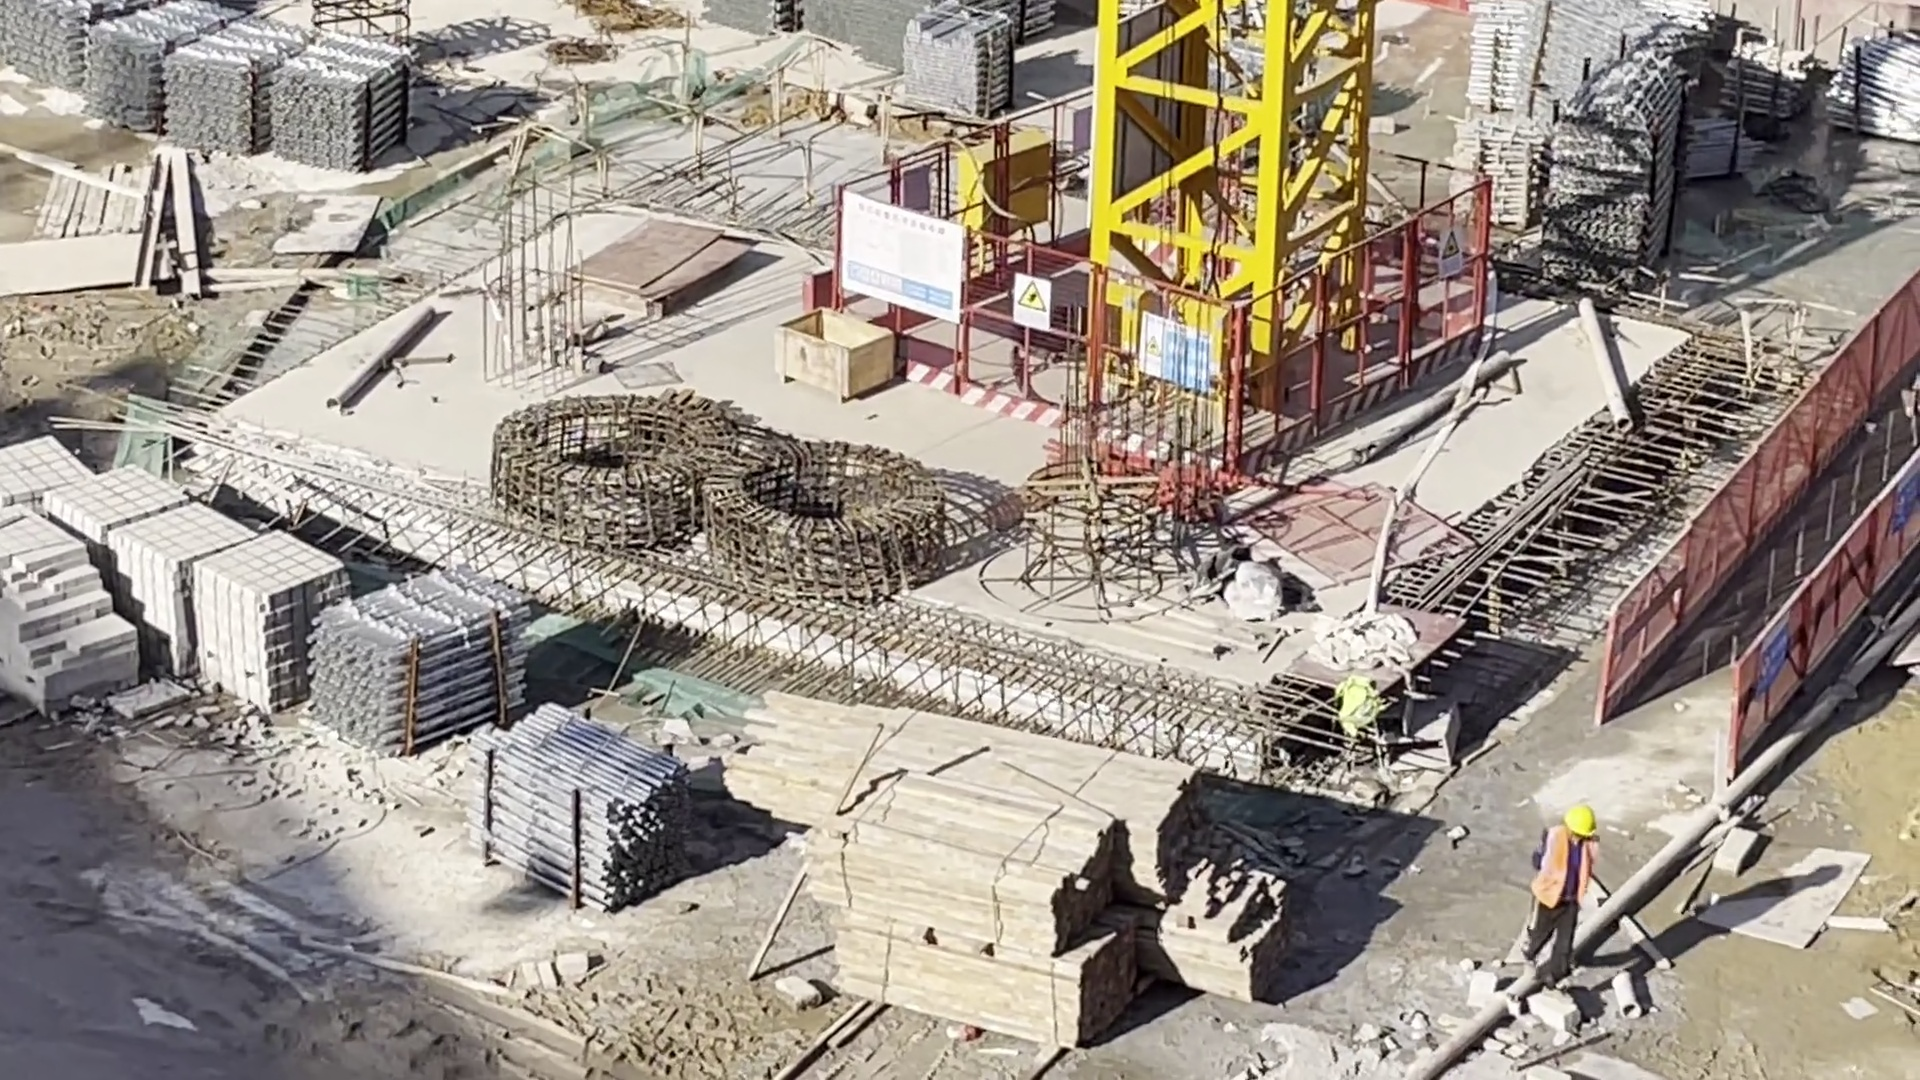board: (581, 234, 754, 312)
brick: (1, 453, 321, 708)
ebox: (959, 133, 1048, 242)
fence: (1619, 265, 1920, 759)
helmet: (1563, 807, 1594, 839)
person: (1529, 806, 1596, 991)
scaffold: (1462, 1, 1705, 261), (90, 4, 406, 174), (483, 706, 683, 911), (317, 570, 523, 750), (2, 3, 166, 93), (906, 3, 1012, 122), (1836, 34, 1919, 139), (1720, 35, 1809, 122)
slogan: (1140, 318, 1212, 399), (1012, 273, 1051, 333), (1759, 616, 1786, 689), (1894, 462, 1920, 527), (1435, 227, 1461, 280)
vest: (1539, 833, 1590, 908)
wood: (756, 701, 1192, 908), (836, 781, 1132, 1047)
